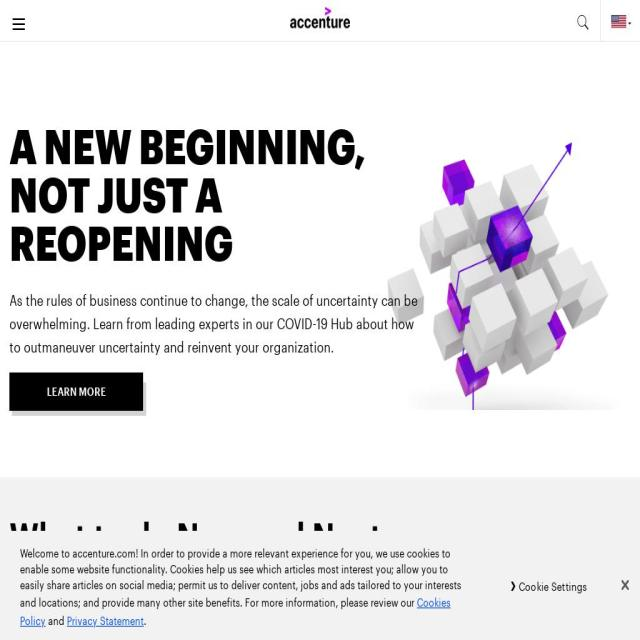button: (222, 584, 418, 640), (9, 584, 204, 640), (436, 584, 630, 640), (9, 356, 144, 416), (504, 568, 588, 604), (600, 0, 640, 42)
heading: (9, 124, 424, 269), (10, 518, 382, 560)
image: (222, 584, 418, 640), (9, 584, 204, 640), (436, 584, 630, 640), (20, 393, 138, 405), (290, 7, 350, 28), (611, 13, 626, 28)
link: (20, 592, 451, 630), (525, 538, 631, 552), (67, 611, 144, 630)
text: (20, 543, 461, 612), (9, 286, 424, 356), (9, 372, 144, 412), (46, 611, 66, 630), (144, 611, 146, 630)
